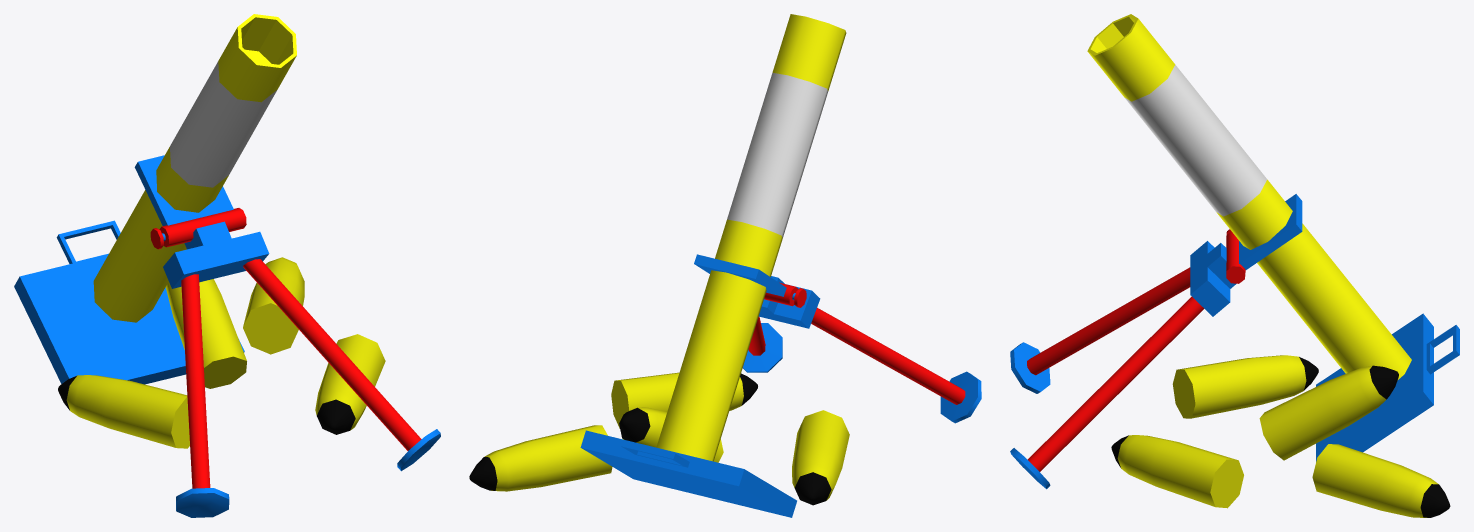
The model's file is Mortier_lvl2.fbx.
The picture shows the model from 3 angles, left to right: view 1: azimuth 30°, elevation 25°; view 2: azimuth 150°, elevation 25°; view 3: azimuth 270°, elevation 25°; orthographic projection. The views are drawn at different scales.
Visible parts, largest first — view 1: Mortier_LVL2; view 2: Mortier_LVL2; view 3: Mortier_LVL2.
Boxes of the visible parts, x1,y1,x2,y2 form: Mortier_LVL2: [14, 14, 440, 517]; Mortier_LVL2: [469, 14, 981, 517]; Mortier_LVL2: [1010, 14, 1459, 517].
Bounding box in the file's own units: 80.22 × 103 × 99.75.
